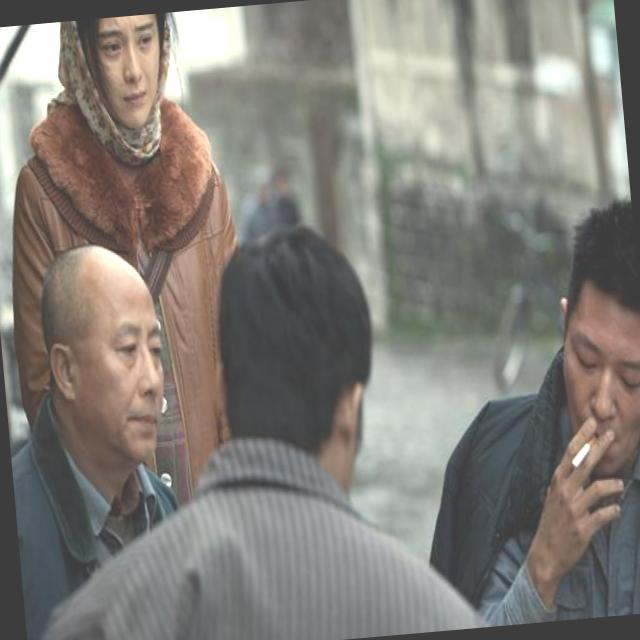smoke: (562, 416, 608, 477)
